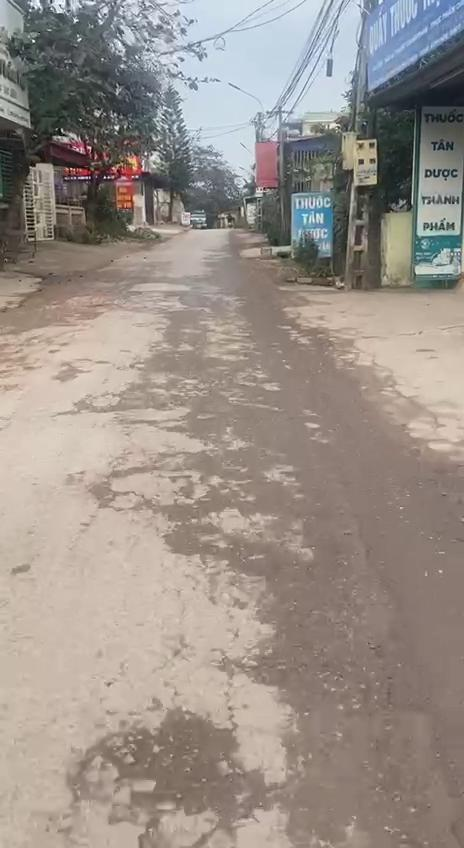pothole: (82, 713, 244, 828)
